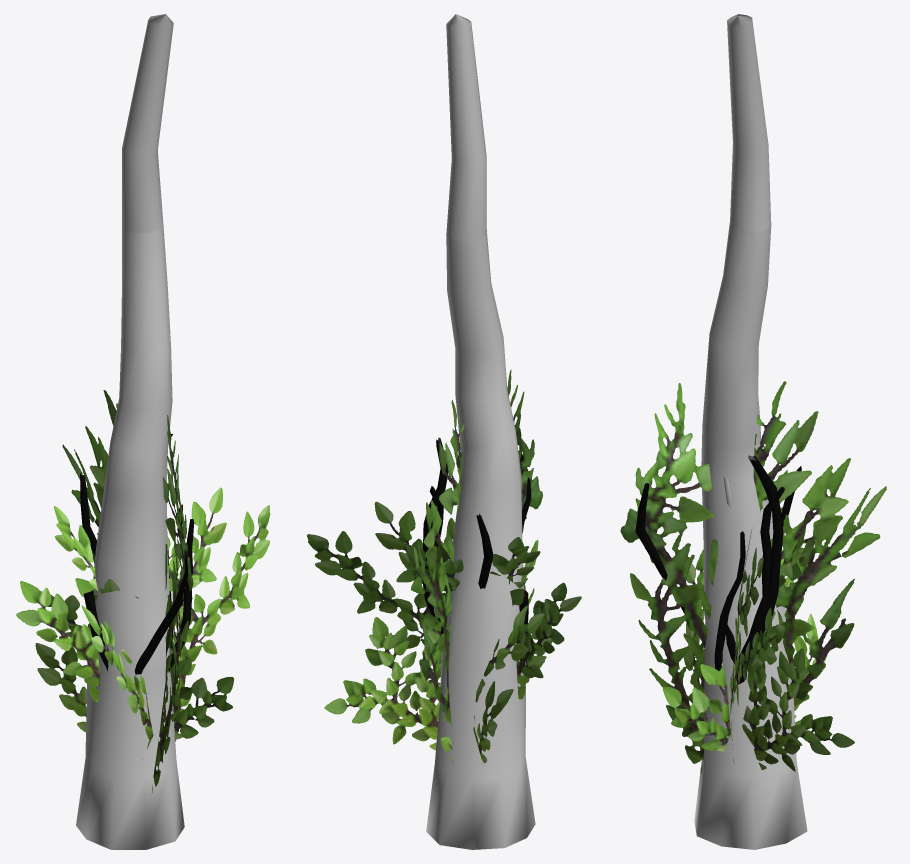
File: tree1.fbx
3 views of the same model, side by side, from view 1: azimuth 30°, elevation 25°; view 2: azimuth 150°, elevation 25°; view 3: azimuth 270°, elevation 25° (orthographic). The views are drawn at different scales.
Parts seen in each view (by area): view 1: turnk1_1, Leaves1_4, Leaves1_3, Leaves1_5, Leaves1_1, trunk2_3, trunk2_1, trunk2_2; view 2: turnk1_1, Leaves1_1, Leaves1_4, Leaves1_3, Leaves1_5, trunk2_5, trunk2_1; view 3: turnk1_1, Leaves1_3, Leaves1_1, Leaves1_5, Leaves1_4, trunk2_5, trunk2_2, trunk2_4, trunk2_3.
Boxes of the visible parts, x1,y1,x2,y2 form: turnk1_1: [76, 14, 184, 849]; Leaves1_4: [16, 487, 270, 741]; Leaves1_3: [62, 390, 193, 794]; Leaves1_5: [35, 579, 234, 739]; Leaves1_1: [54, 506, 185, 759]; trunk2_3: [134, 519, 194, 674]; trunk2_1: [80, 473, 96, 556]; trunk2_2: [83, 550, 173, 671]; turnk1_1: [426, 14, 535, 849]; Leaves1_1: [324, 537, 581, 750]; Leaves1_4: [307, 501, 564, 699]; Leaves1_3: [411, 370, 542, 744]; Leaves1_5: [473, 560, 544, 764]; trunk2_5: [422, 437, 448, 633]; trunk2_1: [476, 514, 493, 588]; turnk1_1: [694, 14, 807, 849]; Leaves1_3: [620, 381, 886, 773]; Leaves1_1: [683, 470, 854, 771]; Leaves1_5: [662, 548, 826, 760]; Leaves1_4: [730, 528, 785, 763]; trunk2_5: [739, 455, 783, 660]; trunk2_2: [736, 487, 784, 684]; trunk2_4: [714, 531, 745, 670]; trunk2_3: [635, 483, 684, 613].
Bounding box in the file's own units: 82.22 × 242 × 74.76.
